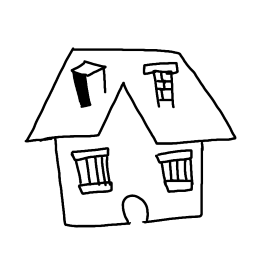chimney: (65, 57, 111, 108), (139, 63, 180, 111)
closed_window: (61, 149, 119, 195), (150, 150, 199, 197)
door: (116, 191, 155, 227)
roof: (23, 43, 236, 142)
wall: (47, 136, 209, 230)
